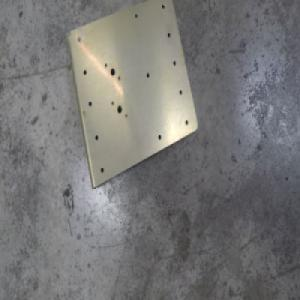MetalSheet: (64, 0, 199, 193)
